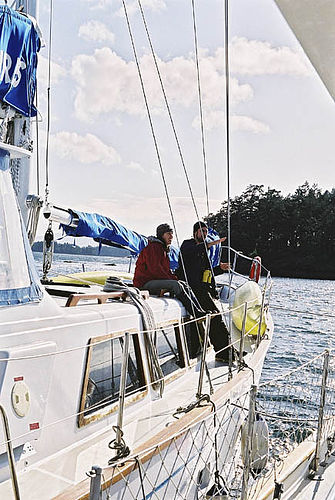without_mask: (156, 227, 176, 248), (193, 223, 210, 246)
